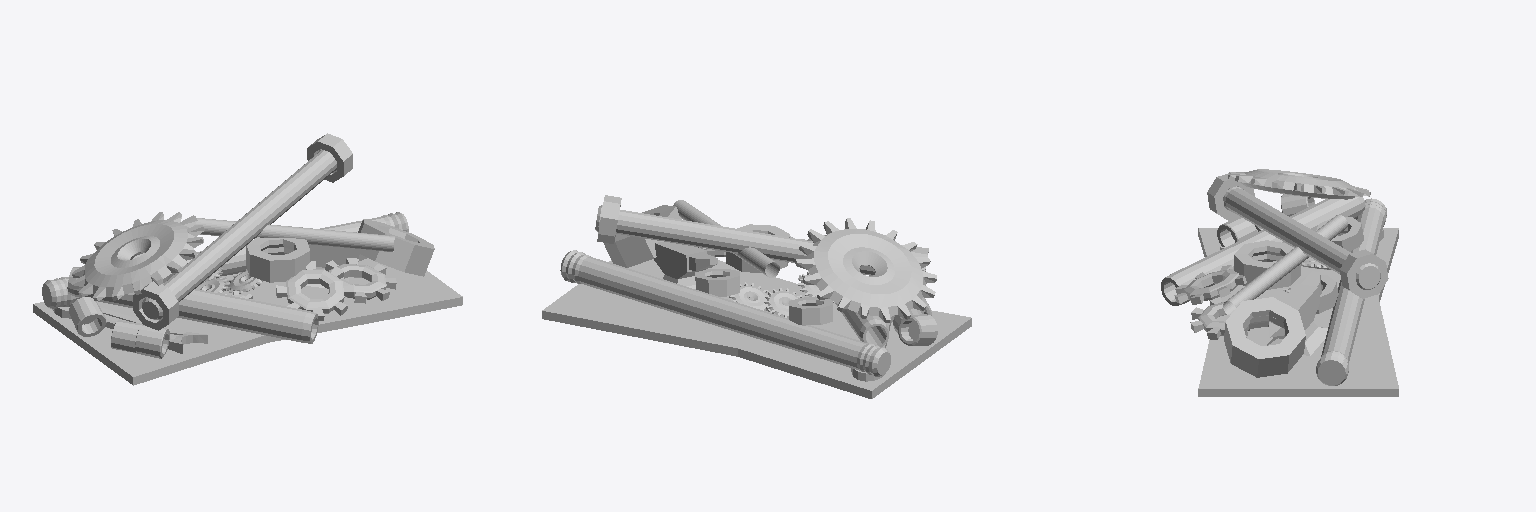
File: Chatarra.obj
3 renders of one model, left to right at view 1: azimuth 30°, elevation 25°; view 2: azimuth 150°, elevation 25°; view 3: azimuth 270°, elevation 25°, orthographic.
Parts seen in each view (by area): view 1: Plane.001, Cylinder.008, Cylinder.001, Cylinder.004, Circle, Cylinder, Torus, Cylinder.007, Cylinder.005, Torus.001, Cylinder.002, Cylinder.013 (+5 smaller); view 2: Plane.001, Cylinder.005, Cylinder.008, Cylinder.001, Plane, Cylinder.007, Circle, Cylinder.006, Cylinder.012, Cylinder.013, Cylinder.004, Cylinder.003 (+3 smaller); view 3: Plane.001, Cylinder.007, Cylinder.005, Cylinder.001, Cylinder.004, Cylinder.008, Plane, Circle, Cylinder, Torus, Cylinder.003, Torus.001 (+4 smaller).
Boxes of the visible parts, x1=… form: Plane.001: x1=33, y1=258, x2=462, y2=385; Cylinder.008: x1=71, y1=212, x2=204, y2=300; Cylinder.001: x1=142, y1=149, x2=336, y2=319; Cylinder.004: x1=67, y1=267, x2=318, y2=343; Circle: x1=193, y1=218, x2=394, y2=251; Cylinder: x1=246, y1=237, x2=309, y2=282; Torus: x1=276, y1=261, x2=353, y2=320; Cylinder.007: x1=354, y1=219, x2=434, y2=276; Cylinder.005: x1=42, y1=212, x2=408, y2=309; Torus.001: x1=325, y1=258, x2=396, y2=303; Cylinder.002: x1=133, y1=281, x2=178, y2=330; Cylinder.013: x1=69, y1=297, x2=106, y2=336; Plane.001: x1=542, y1=259, x2=971, y2=398; Cylinder.005: x1=560, y1=250, x2=890, y2=376; Cylinder.008: x1=795, y1=218, x2=936, y2=322; Cylinder.001: x1=595, y1=205, x2=925, y2=275; Plane: x1=654, y1=242, x2=717, y2=288; Cylinder.007: x1=604, y1=205, x2=681, y2=267; Circle: x1=673, y1=200, x2=779, y2=277; Cylinder.006: x1=789, y1=297, x2=832, y2=325; Cylinder.012: x1=695, y1=269, x2=739, y2=296; Cylinder.013: x1=898, y1=314, x2=937, y2=345; Cylinder.004: x1=807, y1=235, x2=888, y2=346; Cylinder.003: x1=597, y1=195, x2=621, y2=243; Plane.001: x1=1198, y1=228, x2=1398, y2=396; Cylinder.007: x1=1224, y1=297, x2=1305, y2=377; Cylinder.005: x1=1316, y1=198, x2=1386, y2=385; Cylinder.001: x1=1223, y1=186, x2=1380, y2=289; Cylinder.004: x1=1161, y1=197, x2=1365, y2=305; Cylinder.008: x1=1228, y1=169, x2=1370, y2=199; Plane: x1=1267, y1=271, x2=1327, y2=355; Circle: x1=1223, y1=215, x2=1347, y2=315; Cylinder: x1=1234, y1=240, x2=1300, y2=289; Torus: x1=1174, y1=265, x2=1246, y2=304; Cylinder.003: x1=1340, y1=249, x2=1388, y2=298; Torus.001: x1=1190, y1=297, x2=1249, y2=339.
Bounding box in the file's own units: 3.22 × 1.06 × 1.9.